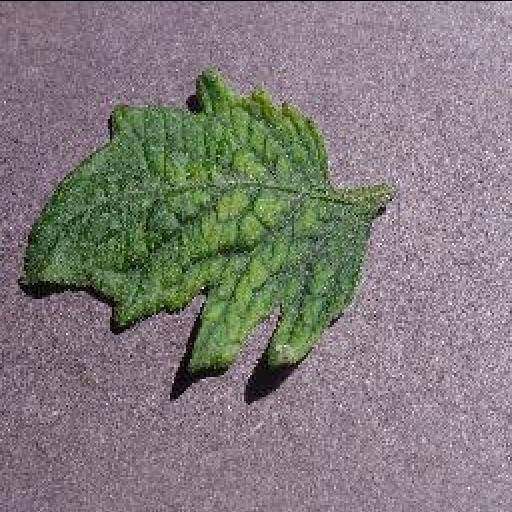disease_tomato: (13, 71, 369, 373)
